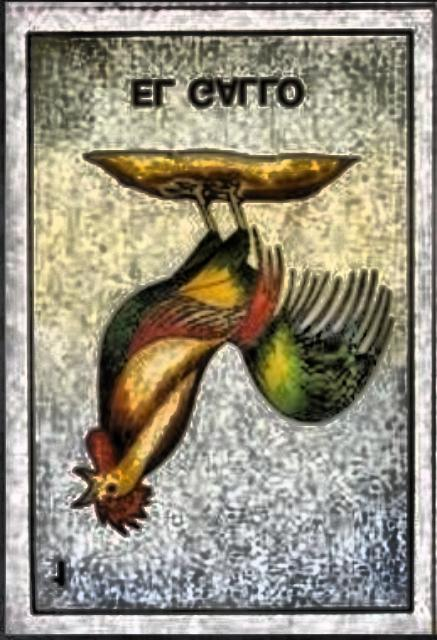Gallo: (31, 36, 410, 610)
